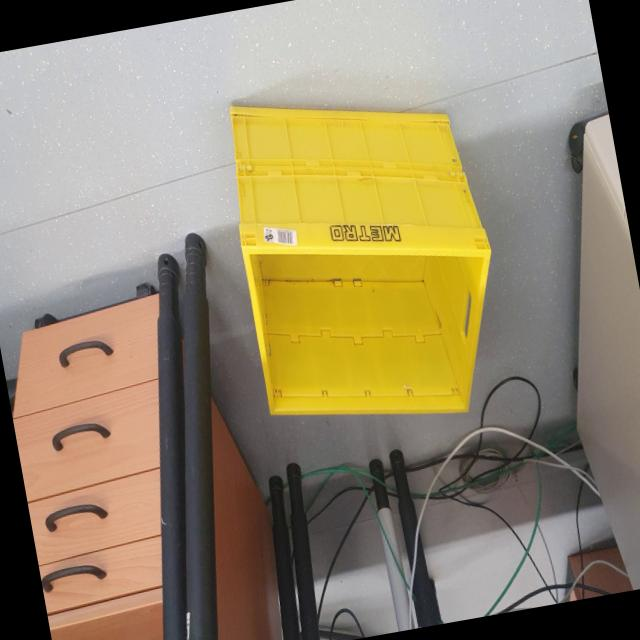box: (209, 56, 528, 463)
